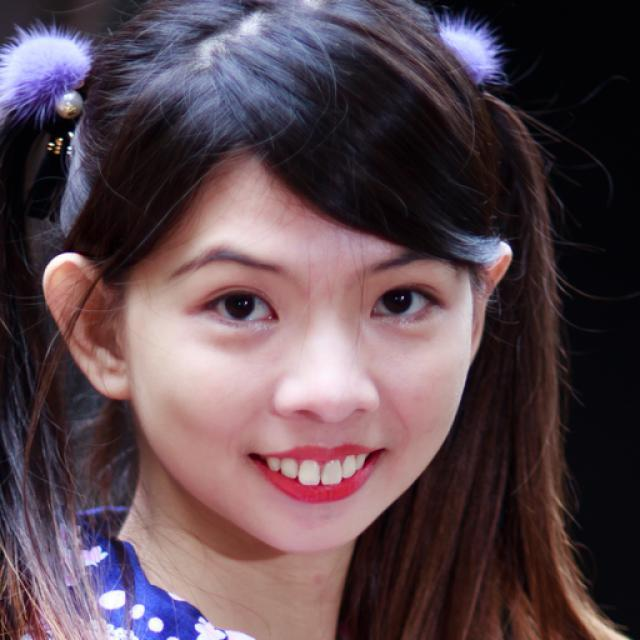happy: (132, 148, 478, 552)
